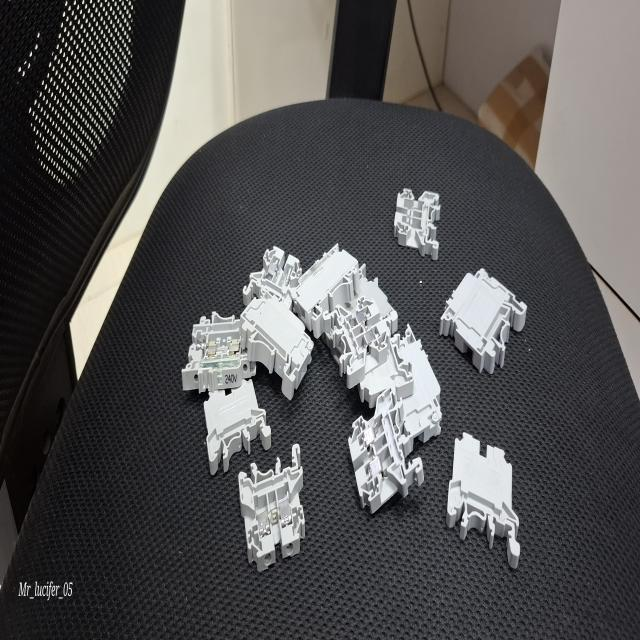Inverted: (438, 426, 524, 568), (188, 382, 278, 478)
Pass: (346, 386, 424, 518), (236, 438, 306, 571), (319, 293, 393, 388)
Reject: (378, 152, 446, 266), (240, 239, 305, 323)
